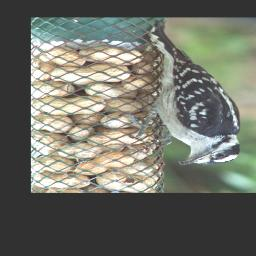Woodpecker: (126, 21, 256, 168)
